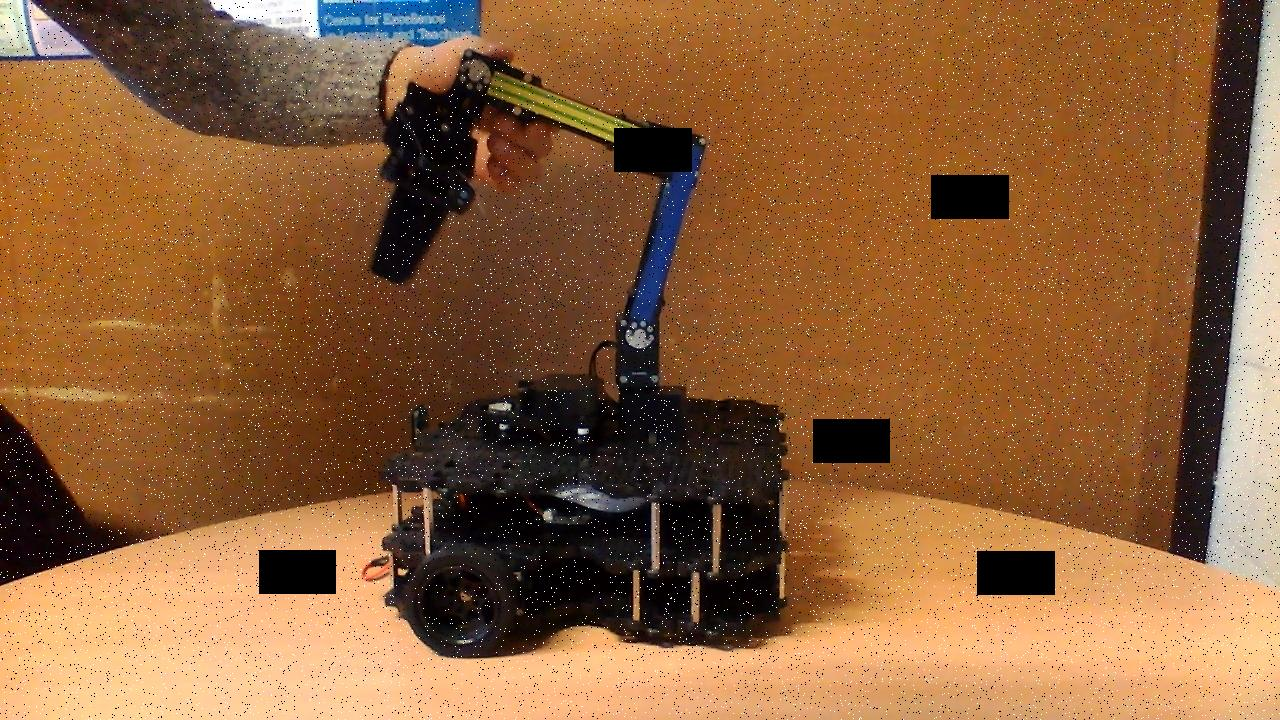Arm: (615, 134, 708, 354)
Hand: (365, 76, 500, 289)
Wrist: (455, 45, 671, 177)
base: (360, 369, 802, 660)
